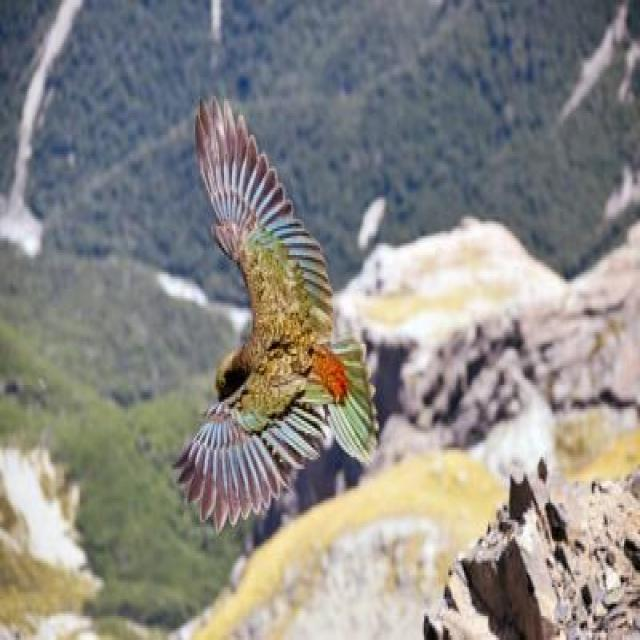birds: (166, 88, 385, 546)
